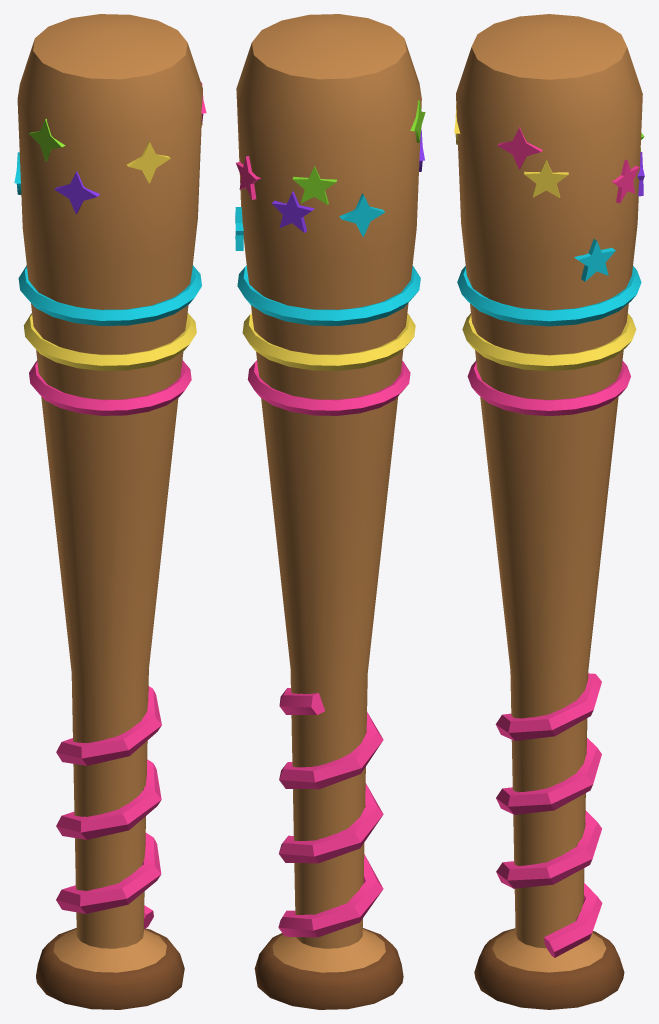
File: bat_wood.obj
The picture shows the model from 3 angles, left to right: view 1: azimuth 30°, elevation 25°; view 2: azimuth 150°, elevation 25°; view 3: azimuth 270°, elevation 25°; orthographic projection.
Visible parts, largest first — view 1: bat_wood; view 2: bat_wood; view 3: bat_wood.
Boxes of the visible parts, bbox=[...] form: bat_wood: bbox=[14, 14, 206, 1009]; bat_wood: bbox=[235, 14, 425, 1009]; bat_wood: bbox=[454, 14, 644, 1009].
Bounding box in the file's own units: 0.7407 × 4.04 × 0.734.
1 material, 1 textured.
